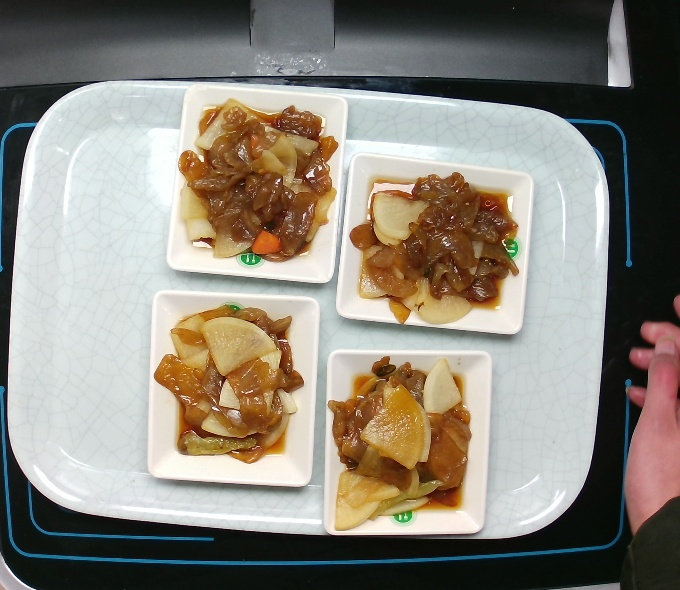wcq-HaiZheTou: (170, 91, 343, 267), (346, 168, 523, 329), (321, 353, 473, 536), (149, 300, 306, 467)
